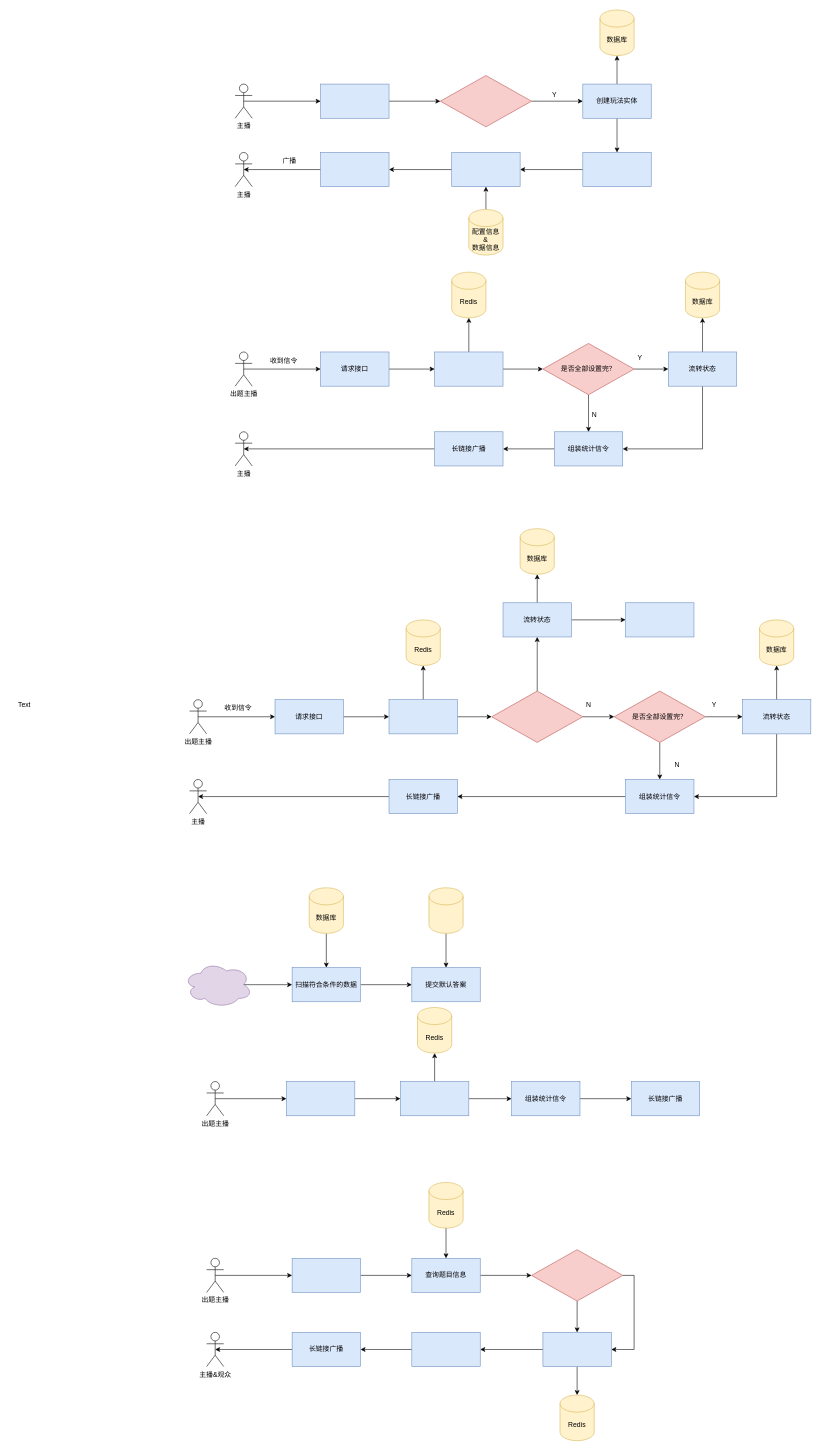
The diagram is 821 pixels wide and 1451 high, and some of its shapes have lost their labels. Here are the shapes that lost their labels. From the top down, the centre of each, then its label:
At (354,101): "点击玩法入口".
At (486,101): "条件判断？".
At (354,169): "直播长链接".
At (485,169): "组装开启信令".
At (616,169): "更新互动房间信息".
At (468,368): "设置题目信息".
At (659,619): "提前结束".
At (422,716): "选择不参与".
At (537,716): "是否全部不参与？".
At (445,910): "Kconf".
At (217,984): "Task".
At (320,1098): "公布答案".
At (434,1098): "保存答题信息".
At (326,1275): "竞猜".
At (577,1275): "判断本次是否猜中？".
At (445,1349): "组建统计信令".
At (576,1349): "Redis记录信息".
